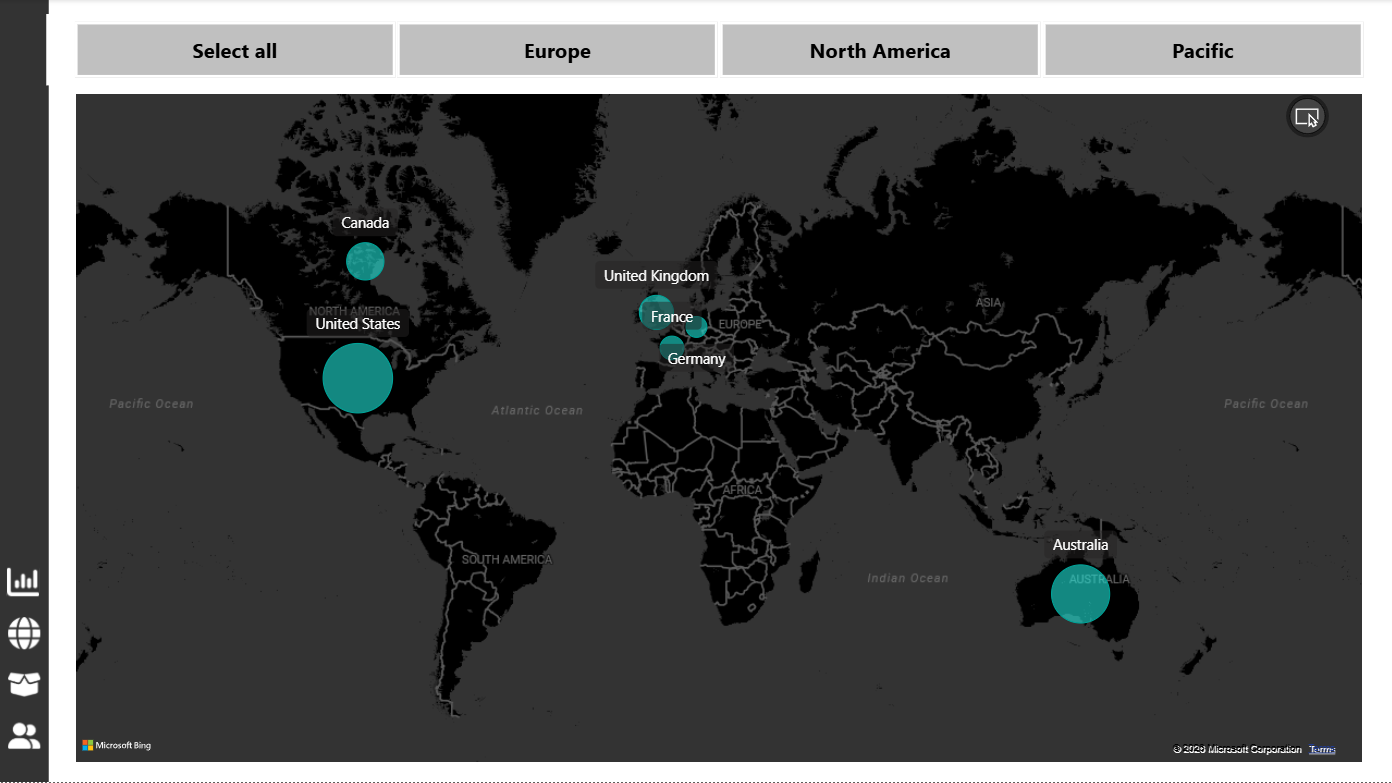

The dashboard page shown, as its layout file describes it:
{"tool":"powerbi","page":{"name":"Map","canvas":[1280,720],"ordinal":1},"visuals":[{"type":"shape","box":[0,0,45,720],"z":0},{"type":"actionButton","box":[2.5,516.7,45.6,37.8],"z":0,"group":"g1"},{"type":"map","fields":{"Category":["Territory Lookup.Country"],"Size":["Measure Table.Total Orders"]},"box":[65.6,82.5,1191.3,622.8],"z":1000},{"type":"actionButton","box":[3.3,563.4,45.6,37.8],"z":1000,"group":"g1"},{"type":"slicer","fields":{"Values":["Territory Lookup.Continent"]},"box":[43,13.6,1234.3,65.6],"z":2000},{"type":"actionButton","box":[3.3,611.1,45.6,37.8],"z":2000,"group":"g1"},{"type":"group","id":"g1","title":"Navigation Buttons","box":[2.5,516.7,46.4,178.9],"z":3000},{"type":"actionButton","box":[3.3,657.8,45.6,37.8],"z":3000,"group":"g1"}]}

Visuals, with their boxes in screenshot pixels (x1, y1, x2, y2):
shape: region(0, 4, 48, 776)
actionButton: region(3, 558, 52, 598)
map - Territory Lookup.Country x Measure Table.Total Orders: region(70, 92, 1348, 760)
actionButton: region(4, 608, 52, 648)
slicer - Territory Lookup.Continent: region(46, 18, 1370, 89)
actionButton: region(4, 659, 52, 700)
"Navigation Buttons" group: region(3, 558, 52, 750)
actionButton: region(4, 709, 52, 750)
